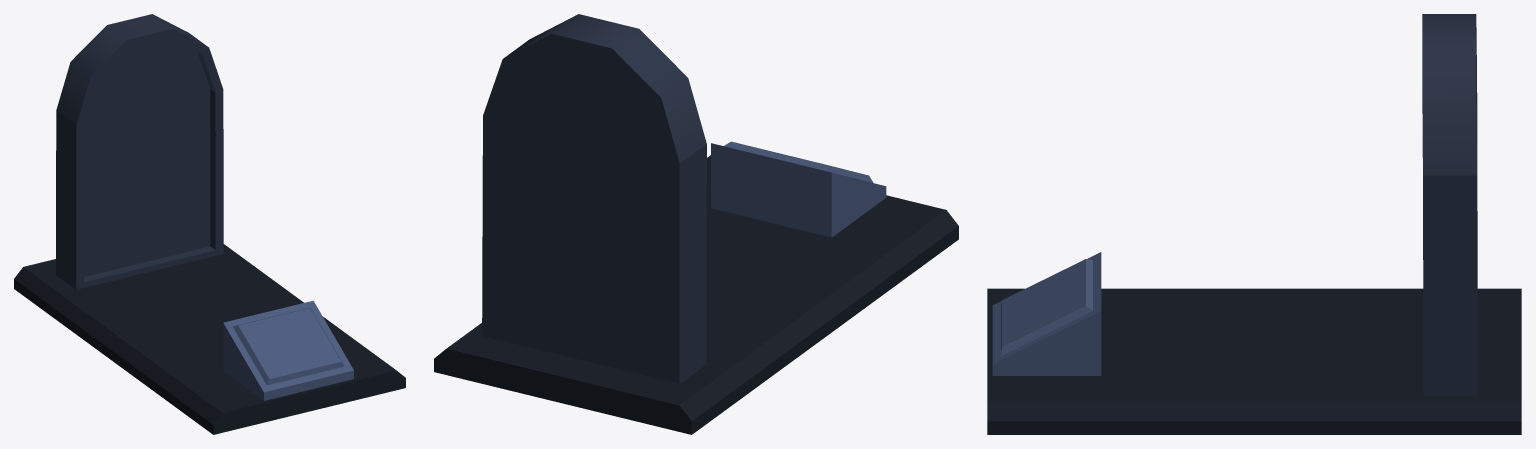
File: grave3.FBX
3 views of the same model, side by side, from view 1: azimuth 30°, elevation 25°; view 2: azimuth 150°, elevation 25°; view 3: azimuth 270°, elevation 25° (orthographic). The views are drawn at different scales.
Parts seen in each view (by area): view 1: grave3; view 2: grave3; view 3: grave3.
Part boxes in pixels (bbox=[...]): grave3: bbox=[14, 14, 405, 434]; grave3: bbox=[434, 14, 958, 434]; grave3: bbox=[987, 14, 1521, 434].
Bounding box in the file's own units: 13.31 × 17.03 × 23.9.
